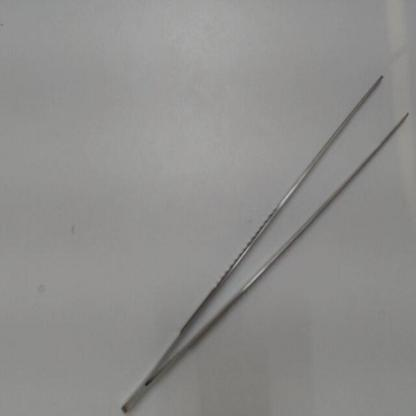DeBakey Dissector: (112, 62, 411, 412)
